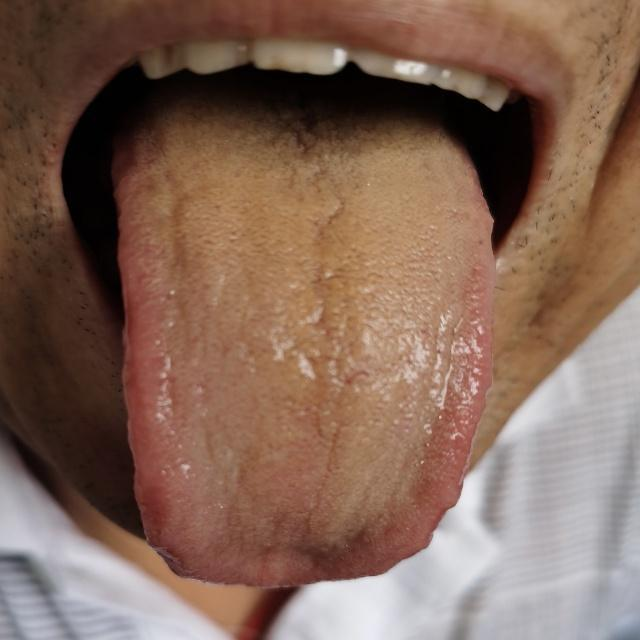huangtaishe: (117, 117, 495, 590)
